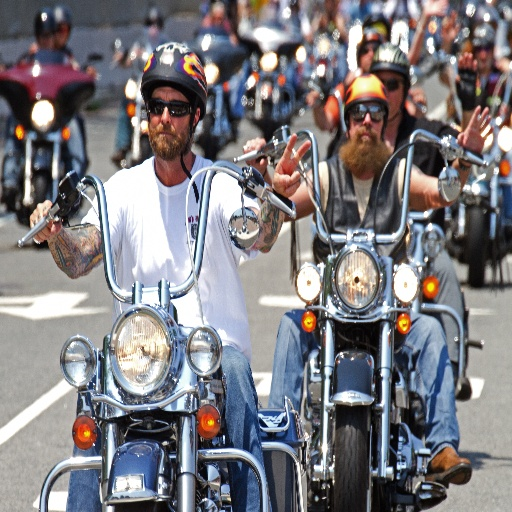hand: (26, 177, 123, 283), (272, 131, 312, 197), (457, 103, 494, 164), (454, 49, 477, 108), (241, 136, 269, 175), (440, 7, 462, 49), (424, 0, 448, 15), (411, 83, 425, 107), (306, 91, 319, 105)
